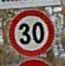limite 30: (7, 8, 55, 57)
